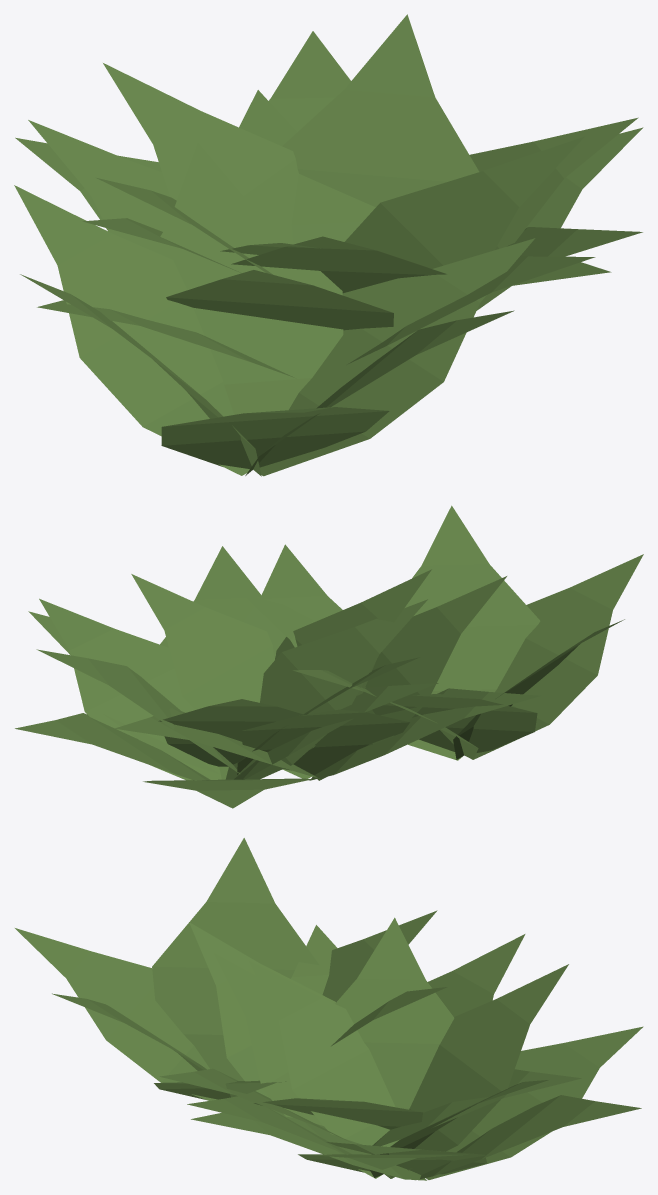
Rendered from Palmetto.fbx.
3 views of the same model, one above another, from view 1: azimuth 30°, elevation 25°; view 2: azimuth 150°, elevation 25°; view 3: azimuth 270°, elevation 25° (orthographic). The views are drawn at different scales.
Visible parts, largest first — view 1: Palmetto; view 2: Palmetto; view 3: Palmetto.
Boxes of the visible parts, x1=… form: Palmetto: x1=14, y1=14, x2=643, y2=476; Palmetto: x1=15, y1=505, x2=643, y2=808; Palmetto: x1=15, y1=838, x2=643, y2=1180.
Size of the model in its own units: 1022 by 335 by 1045.
